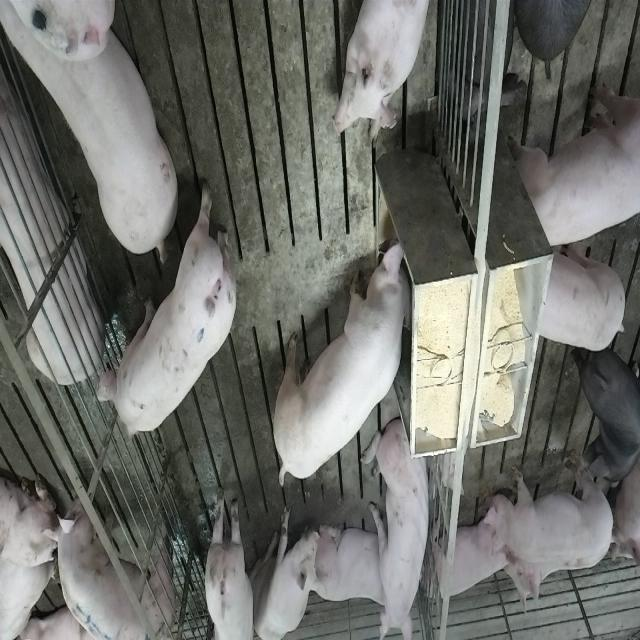Feeding: (276, 236, 420, 490)
Sitting: (367, 412, 435, 636), (252, 504, 320, 640)
Standing: (6, 7, 182, 267), (91, 179, 235, 445), (515, 74, 639, 254), (42, 502, 174, 638), (480, 448, 618, 562), (532, 239, 629, 353), (578, 336, 640, 478), (202, 482, 256, 638)
Sternal_lying: (0, 55, 100, 384), (332, 0, 434, 142), (427, 506, 509, 610), (312, 519, 392, 609), (502, 536, 566, 612)
